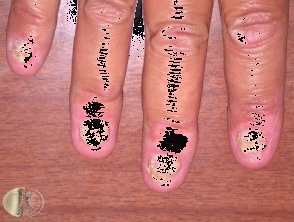Nail_psoriasis: (223, 104, 294, 174), (141, 120, 201, 192), (66, 89, 124, 162), (7, 33, 50, 77)
